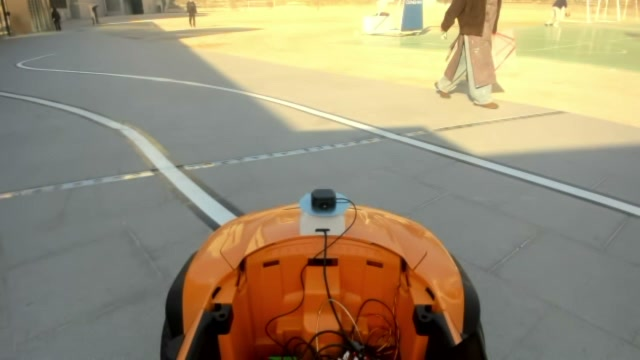Lane: (15, 54, 638, 219), (0, 91, 244, 231)
